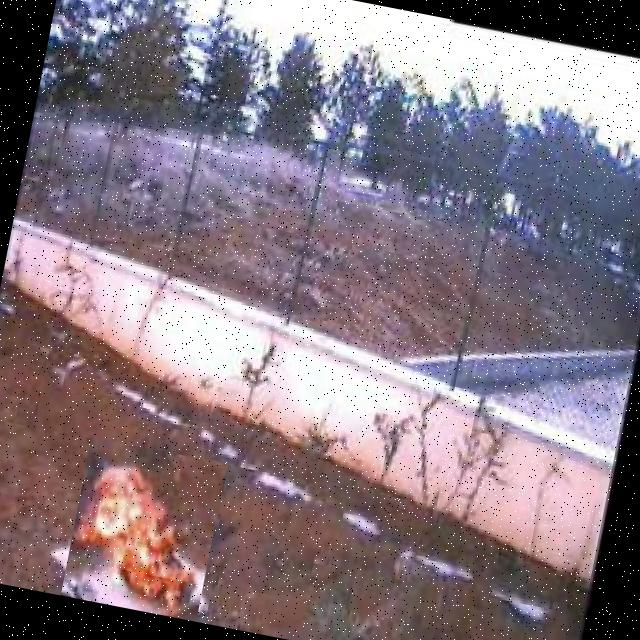fire: (60, 438, 226, 622)
